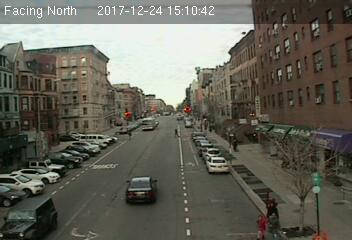car: (2, 195, 60, 239), (124, 175, 160, 205), (206, 156, 230, 173)
pedestrian: (256, 208, 267, 240)
